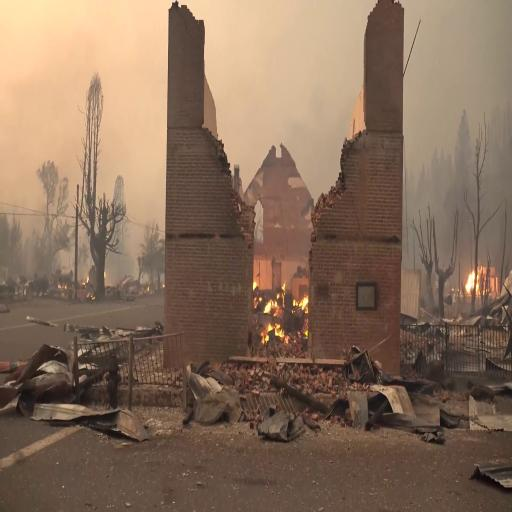fire: (465, 258, 484, 302)
smoke: (241, 12, 321, 124), (0, 0, 68, 109)
